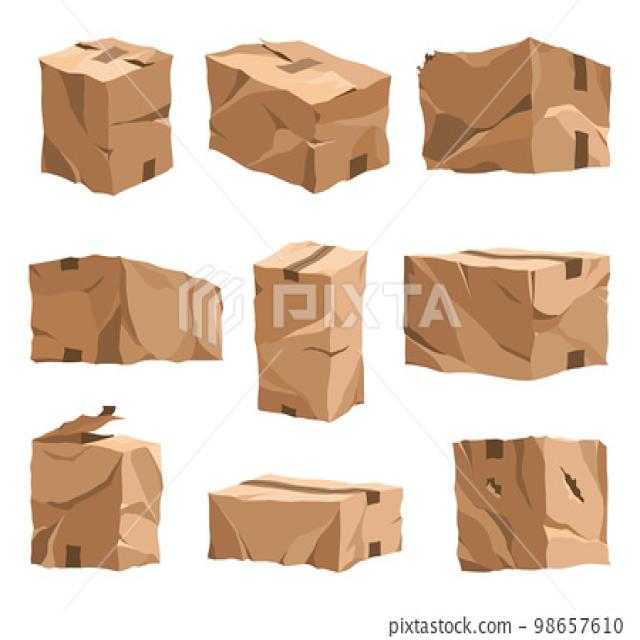Kardus kondisi rusak: (205, 34, 393, 194), (402, 248, 614, 385), (418, 40, 615, 170), (27, 251, 229, 367), (28, 404, 167, 569), (456, 433, 615, 576), (40, 32, 176, 196), (252, 239, 369, 422), (208, 471, 407, 574)
